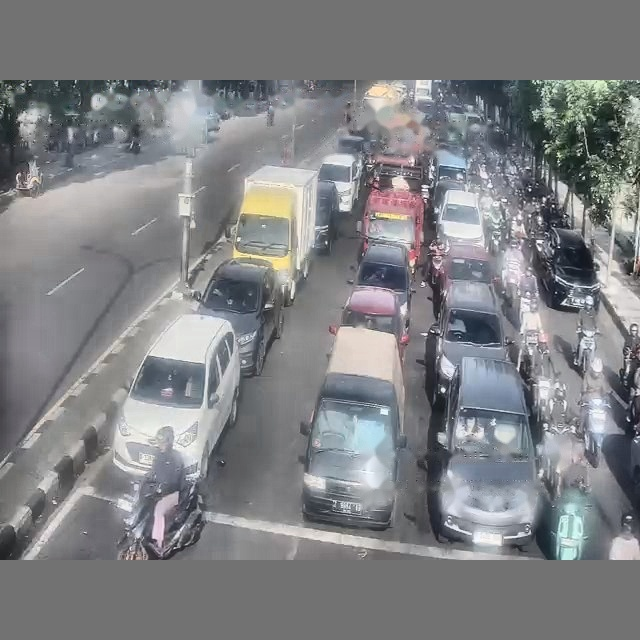Mobil: (300, 327, 405, 529), (113, 314, 240, 478), (434, 356, 539, 547), (425, 281, 510, 406), (194, 258, 284, 375), (533, 228, 600, 308), (347, 243, 412, 322), (340, 286, 408, 358), (437, 190, 484, 245), (444, 242, 496, 290), (318, 153, 359, 212), (314, 181, 338, 254), (429, 179, 465, 223), (337, 135, 365, 181)
Motor: (117, 481, 203, 559), (551, 501, 587, 559), (580, 397, 609, 467), (577, 329, 599, 375)
Truk: (228, 165, 317, 305)
